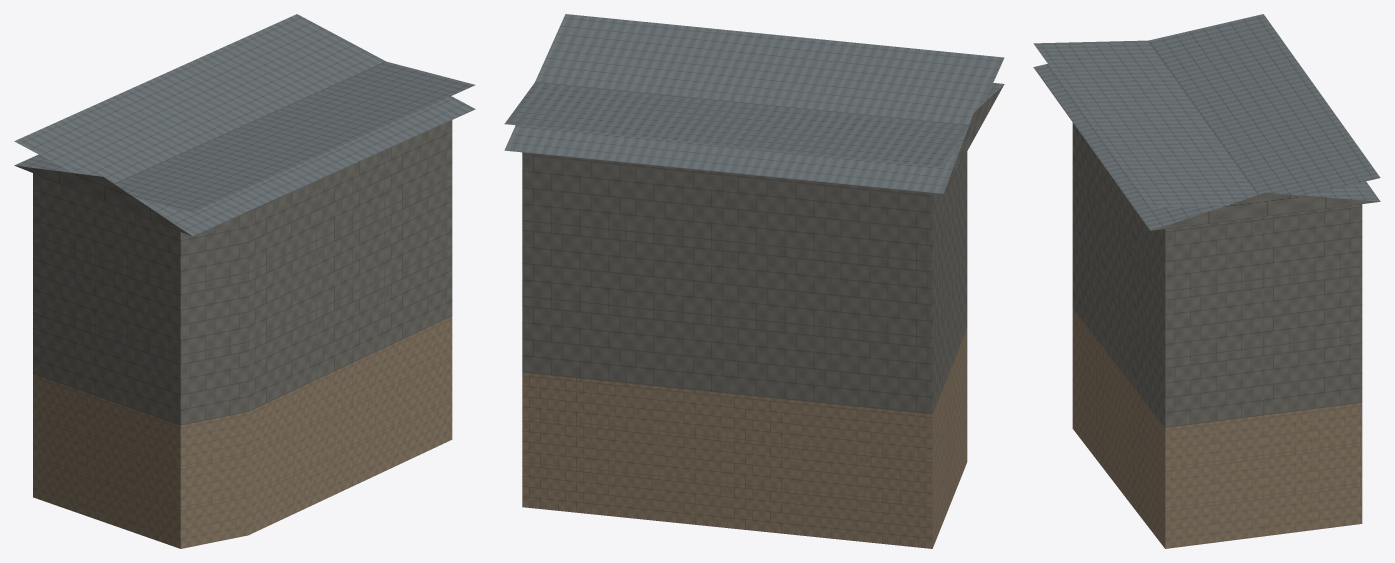
The model's file is bld_c34_-56_431.gltf.
3 renders of one model, left to right at view 1: azimuth 30°, elevation 25°; view 2: azimuth 150°, elevation 25°; view 3: azimuth 270°, elevation 25°, orthographic. The views are drawn at different scales.
Parts seen in each view (by area): view 1: bld_c34_-56_431; view 2: bld_c34_-56_431; view 3: bld_c34_-56_431.
Boxes of the visible parts, x1,y1,x2,y2 form: bld_c34_-56_431: [14, 14, 475, 548]; bld_c34_-56_431: [504, 14, 1004, 548]; bld_c34_-56_431: [1033, 14, 1380, 548].
Size of the model in its own units: 17.45 by 14.7 by 13.25.
4 materials, 4 textured.
